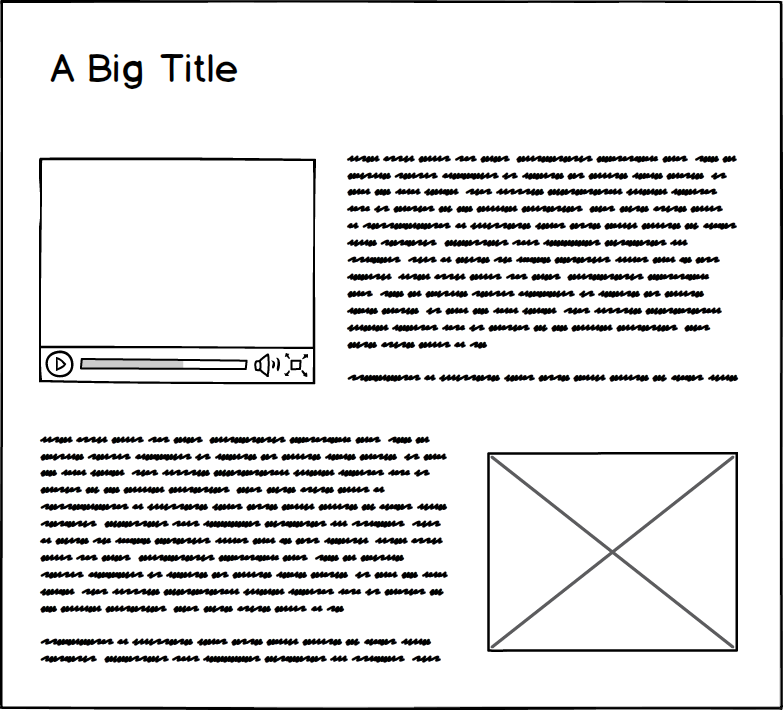h1: (42, 42, 247, 95)
image: (480, 447, 745, 659)
p: (34, 430, 453, 669), (340, 151, 749, 388)
video: (34, 154, 322, 389)
